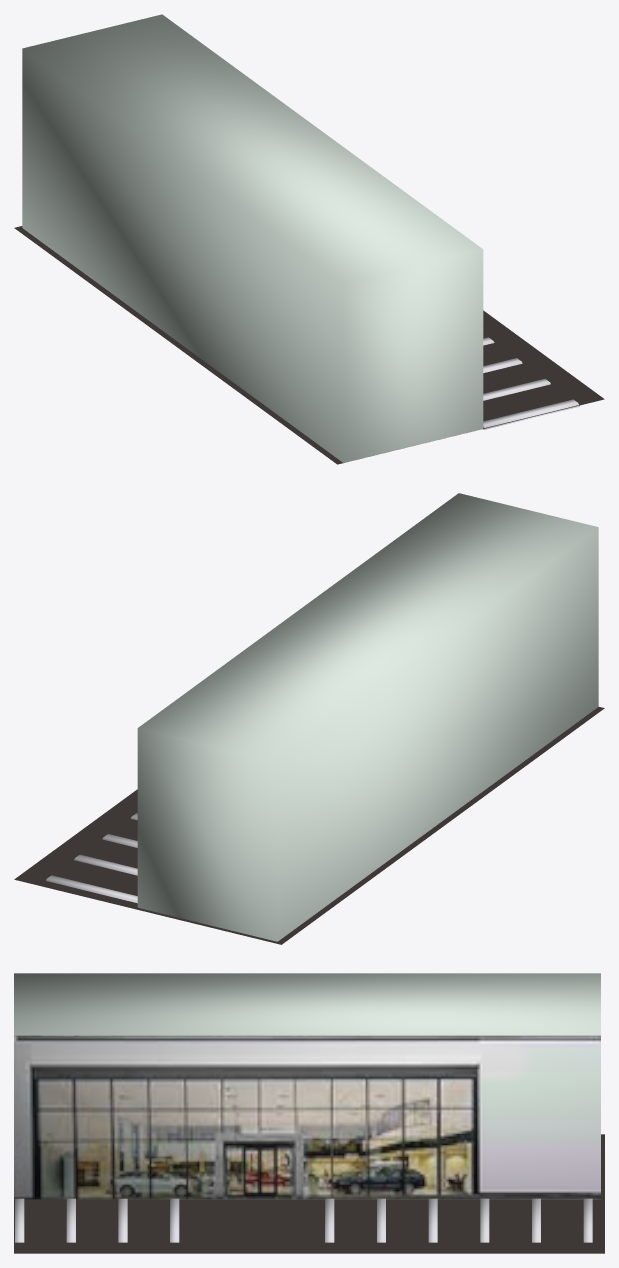
File: car_dealership.glb
The picture shows the model from 3 angles, top to bottom: view 1: azimuth 30°, elevation 25°; view 2: azimuth 150°, elevation 25°; view 3: azimuth 270°, elevation 25°; orthographic projection. The views are drawn at different scales.
Parts seen in each view (by area): view 1: Object_2; view 2: Object_2; view 3: Object_2.
Part boxes in pixels (x1,y1,x2,y2): Object_2: (14,14,604,464); Object_2: (14,493,604,944); Object_2: (14,973,604,1253).
Size of the model in its own units: 3.82 by 2.47 by 8.01.
Materials: 1 (1 with a texture image).
